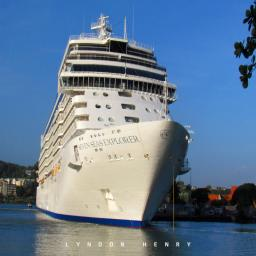cruises: (35, 12, 194, 234)
